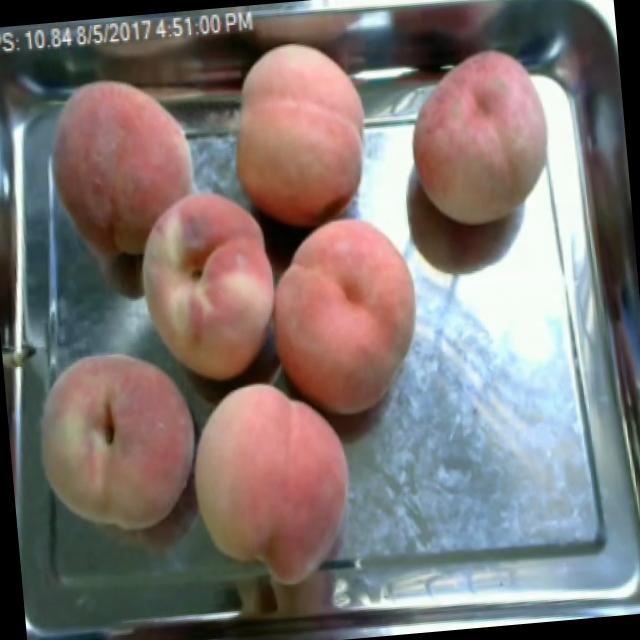Fruit: (174, 366, 371, 602), (18, 331, 215, 548), (264, 202, 436, 431), (34, 60, 213, 275), (391, 29, 570, 242), (214, 24, 386, 238), (119, 176, 283, 396)
